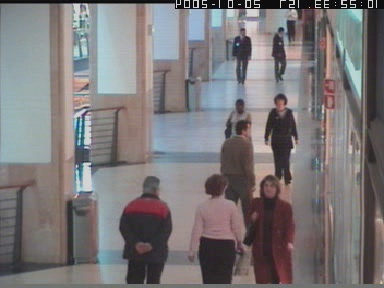person: (186, 174, 245, 283), (243, 174, 296, 284), (118, 176, 171, 284), (221, 119, 256, 241), (264, 93, 298, 185), (225, 97, 254, 155), (231, 27, 250, 82), (272, 27, 287, 83), (285, 9, 297, 43)
